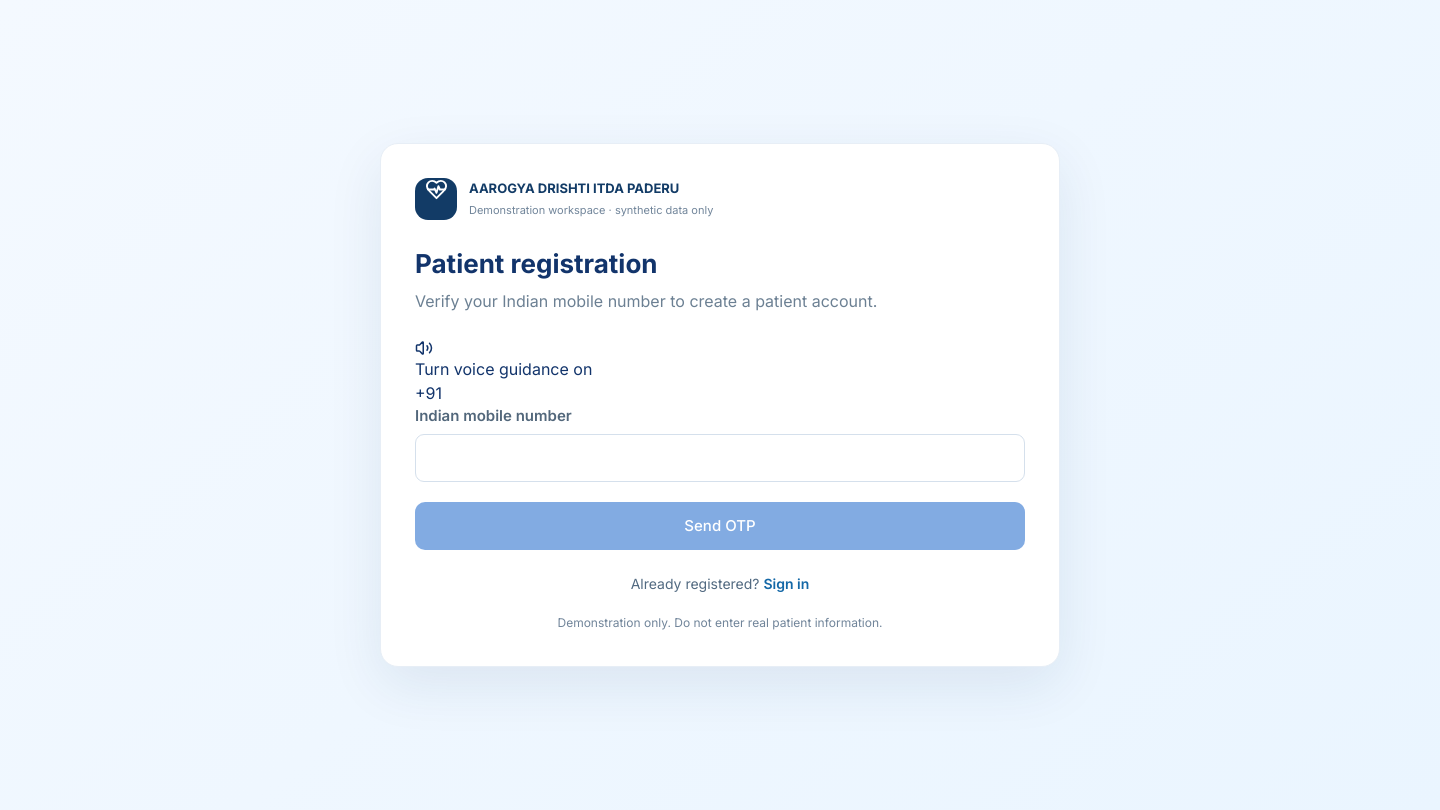
it: patient OTP registration › takes an already registered patient to patient OTP sign-in
Step 1. Click the link "Sign in" → (786, 584), box top-left (763, 575), bottom-right (809, 592)
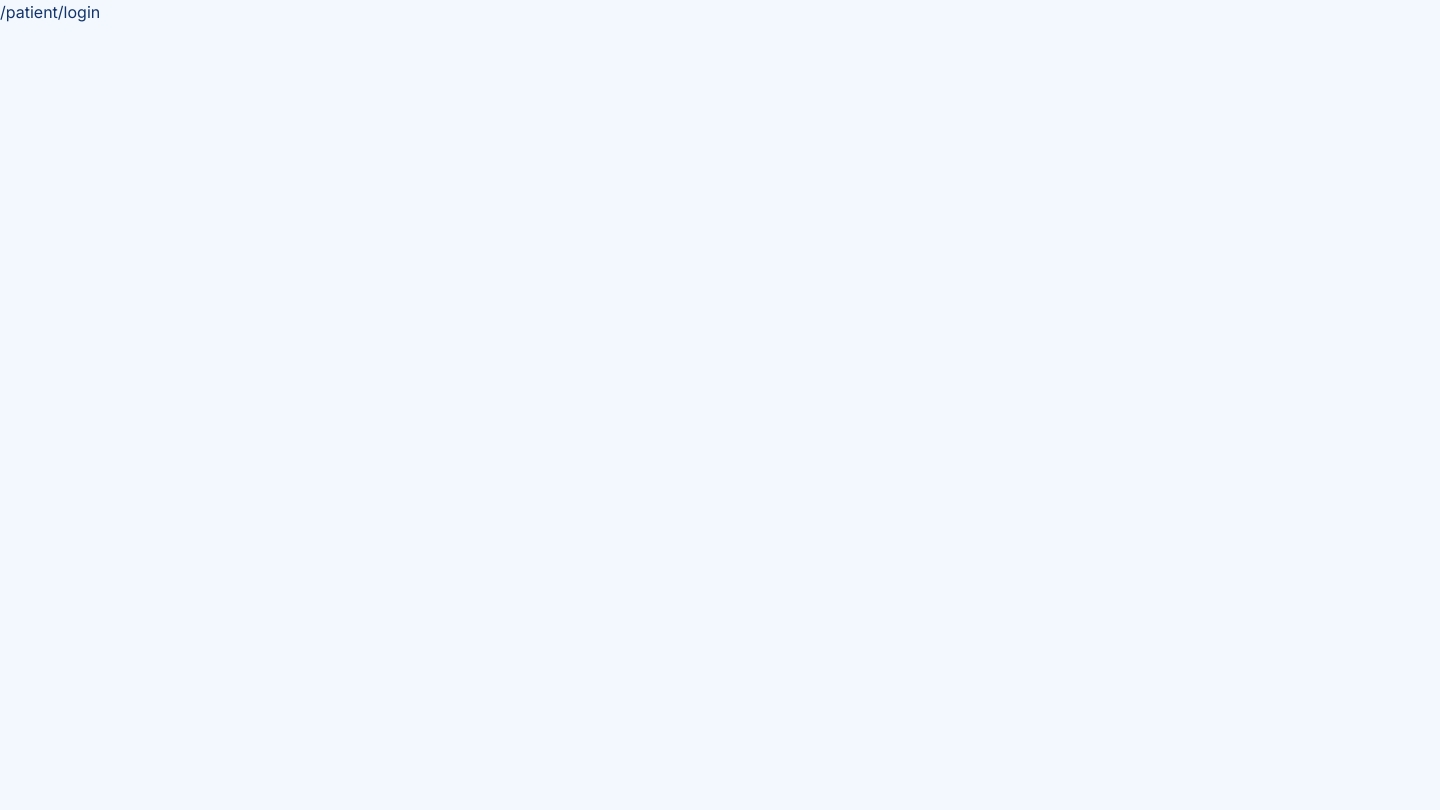
Now the text with test id "current-path" reads "/patient/login", box top-left (0, 2), bottom-right (100, 22)
